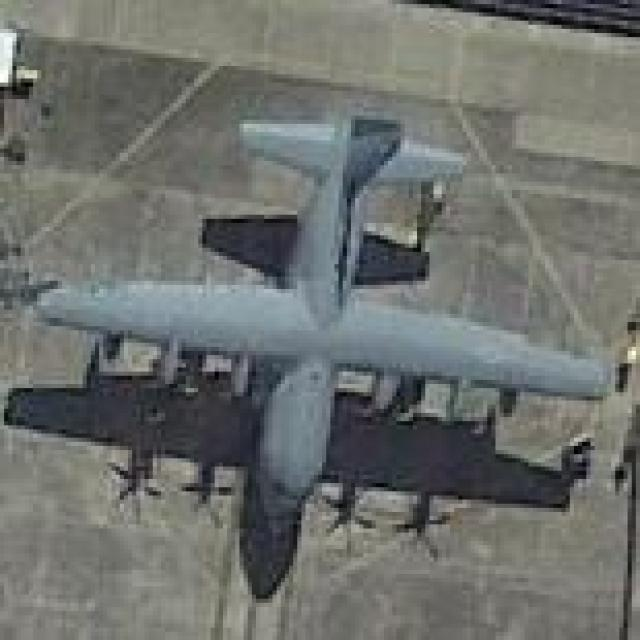C-130_TopDown: (0, 91, 607, 603)
